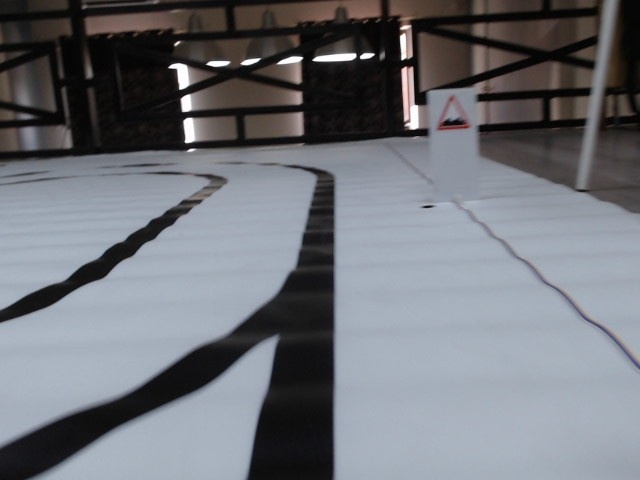Nerov: (437, 95, 469, 132)
